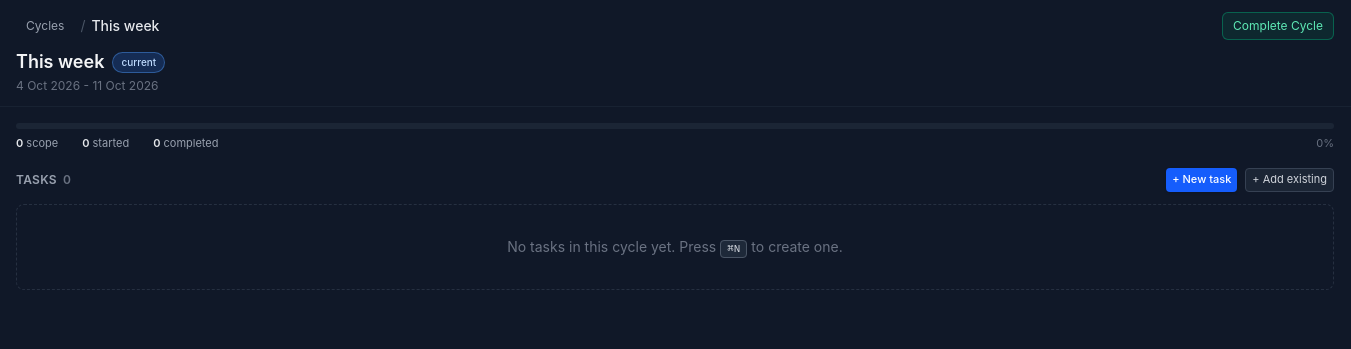
Test: CycleDetail › shows a failed cycle completion and allows an explicit retry
Click the button "Complete Cycle" at (1278, 26), box [1222,12,1334,40]
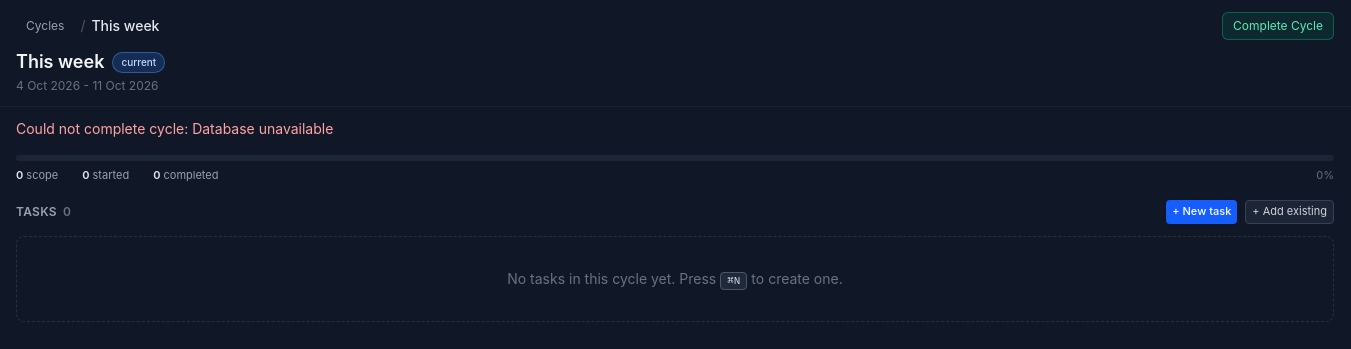
Result: the message reads "Could not complete cycle: Database unavailable" at [16,120,333,137]
Click the button "Complete Cycle" at (1278, 26), box [1222,12,1334,40]
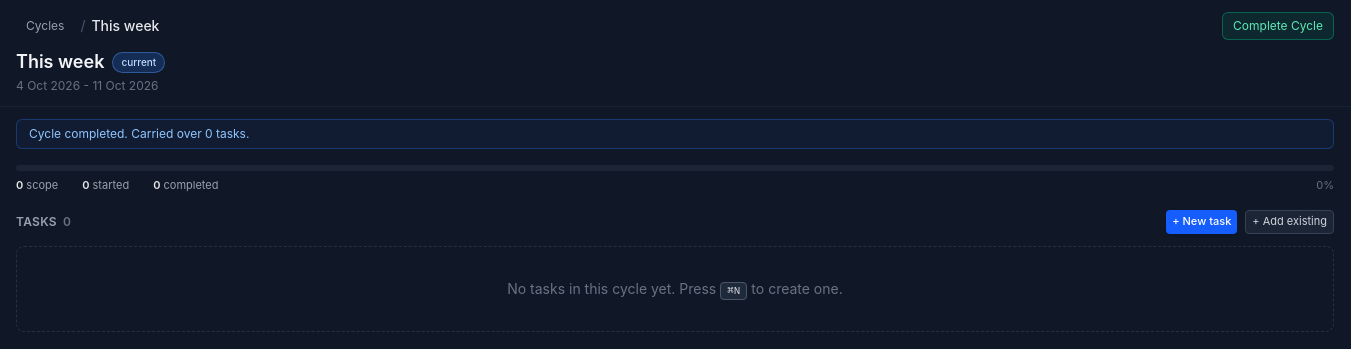
Result: the text "Cycle completed. Carried over 0 tasks." is shown at [16,119,1334,149]
Result: the message "Could not complete cycle: Database unavailable" is gone
